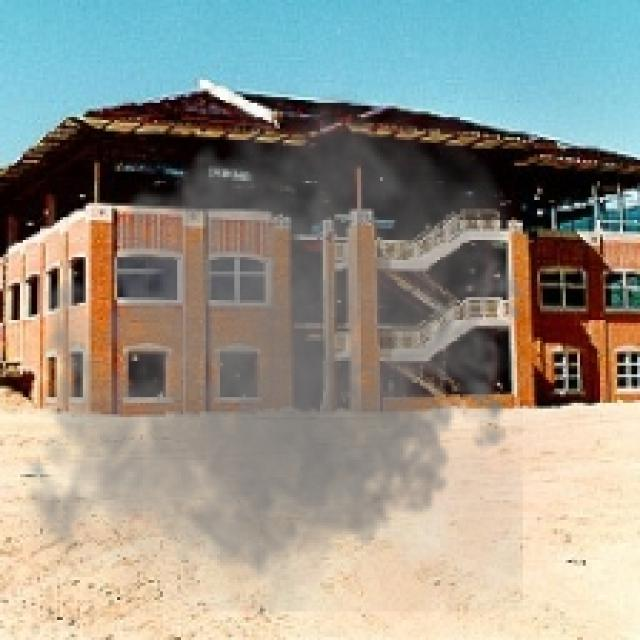smoke: (12, 71, 534, 612)
